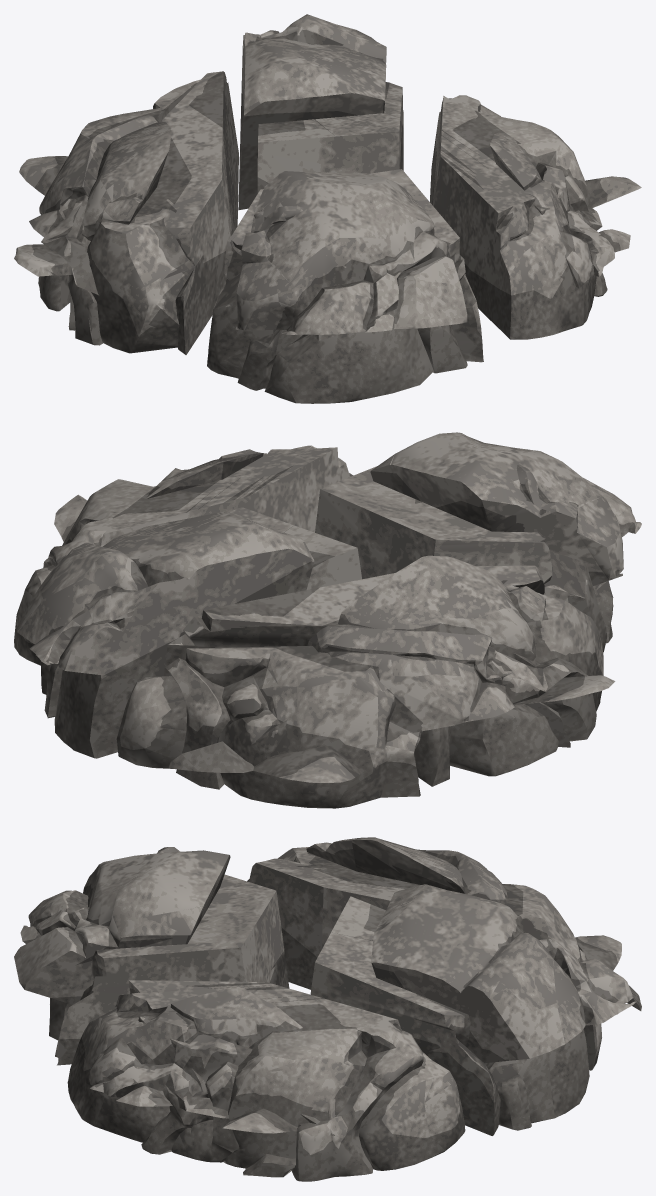
File: copper_ore_rubble.glb
The picture shows the model from 3 angles, top to bottom: view 1: azimuth 30°, elevation 25°; view 2: azimuth 150°, elevation 25°; view 3: azimuth 270°, elevation 25°; orthographic projection. The views are drawn at different scales.
Visible parts, largest first — view 1: CopperOreRubble; view 2: CopperOreRubble; view 3: CopperOreRubble.
Part boxes in pixels (x1,y1,x2,y2): CopperOreRubble: [14, 14, 641, 403]; CopperOreRubble: [14, 432, 641, 808]; CopperOreRubble: [14, 837, 641, 1181].
Size of the model in its own units: 2.03 by 0.6106 by 1.98.
2 materials, 2 textured.
